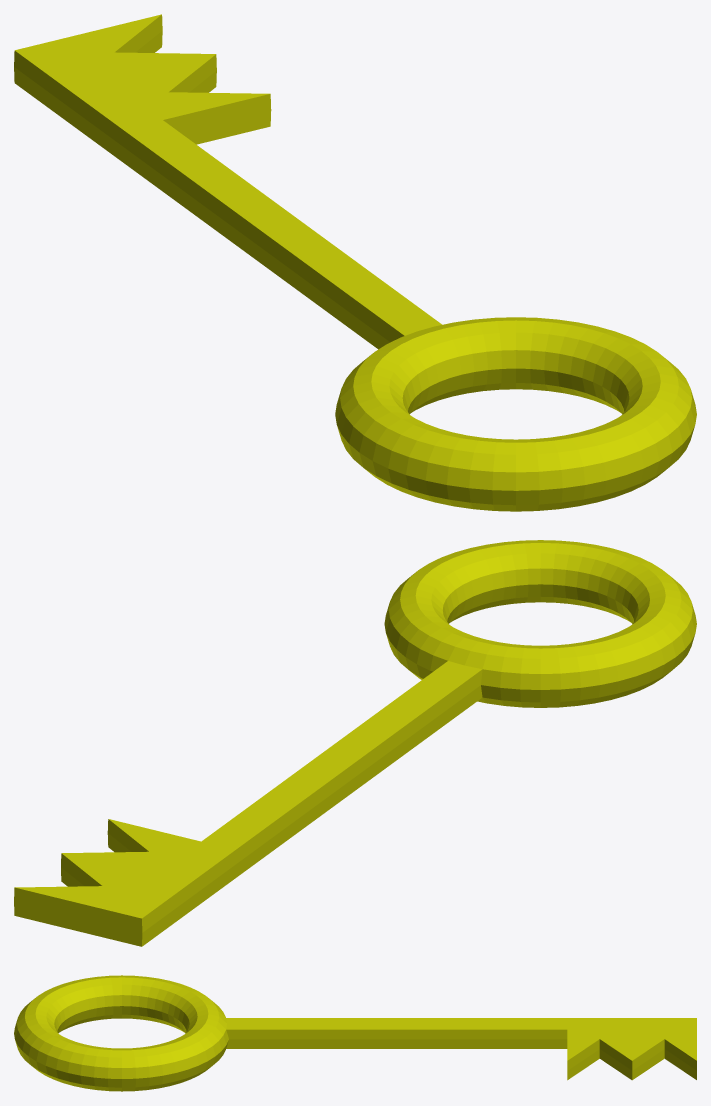
Rendered from Yellowkey.fbx.
3 views of the same model, one above another, from view 1: azimuth 30°, elevation 25°; view 2: azimuth 150°, elevation 25°; view 3: azimuth 270°, elevation 25° (orthographic). The views are drawn at different scales.
Parts seen in each view (by area): view 1: Torus; view 2: Torus; view 3: Torus.
Boxes of the visible parts, x1,y1,x2,y2 form: Torus: (14, 14, 696, 511); Torus: (14, 540, 696, 946); Torus: (14, 975, 696, 1091).
Size of the model in its own units: 250 by 50 by 791.
